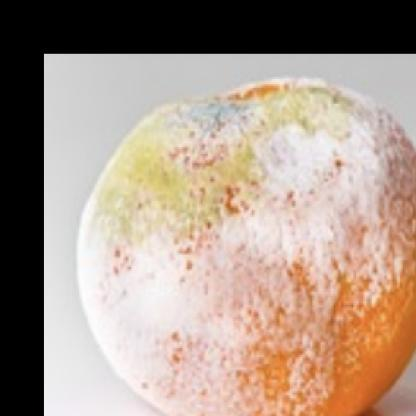rotten: (78, 78, 416, 416)
